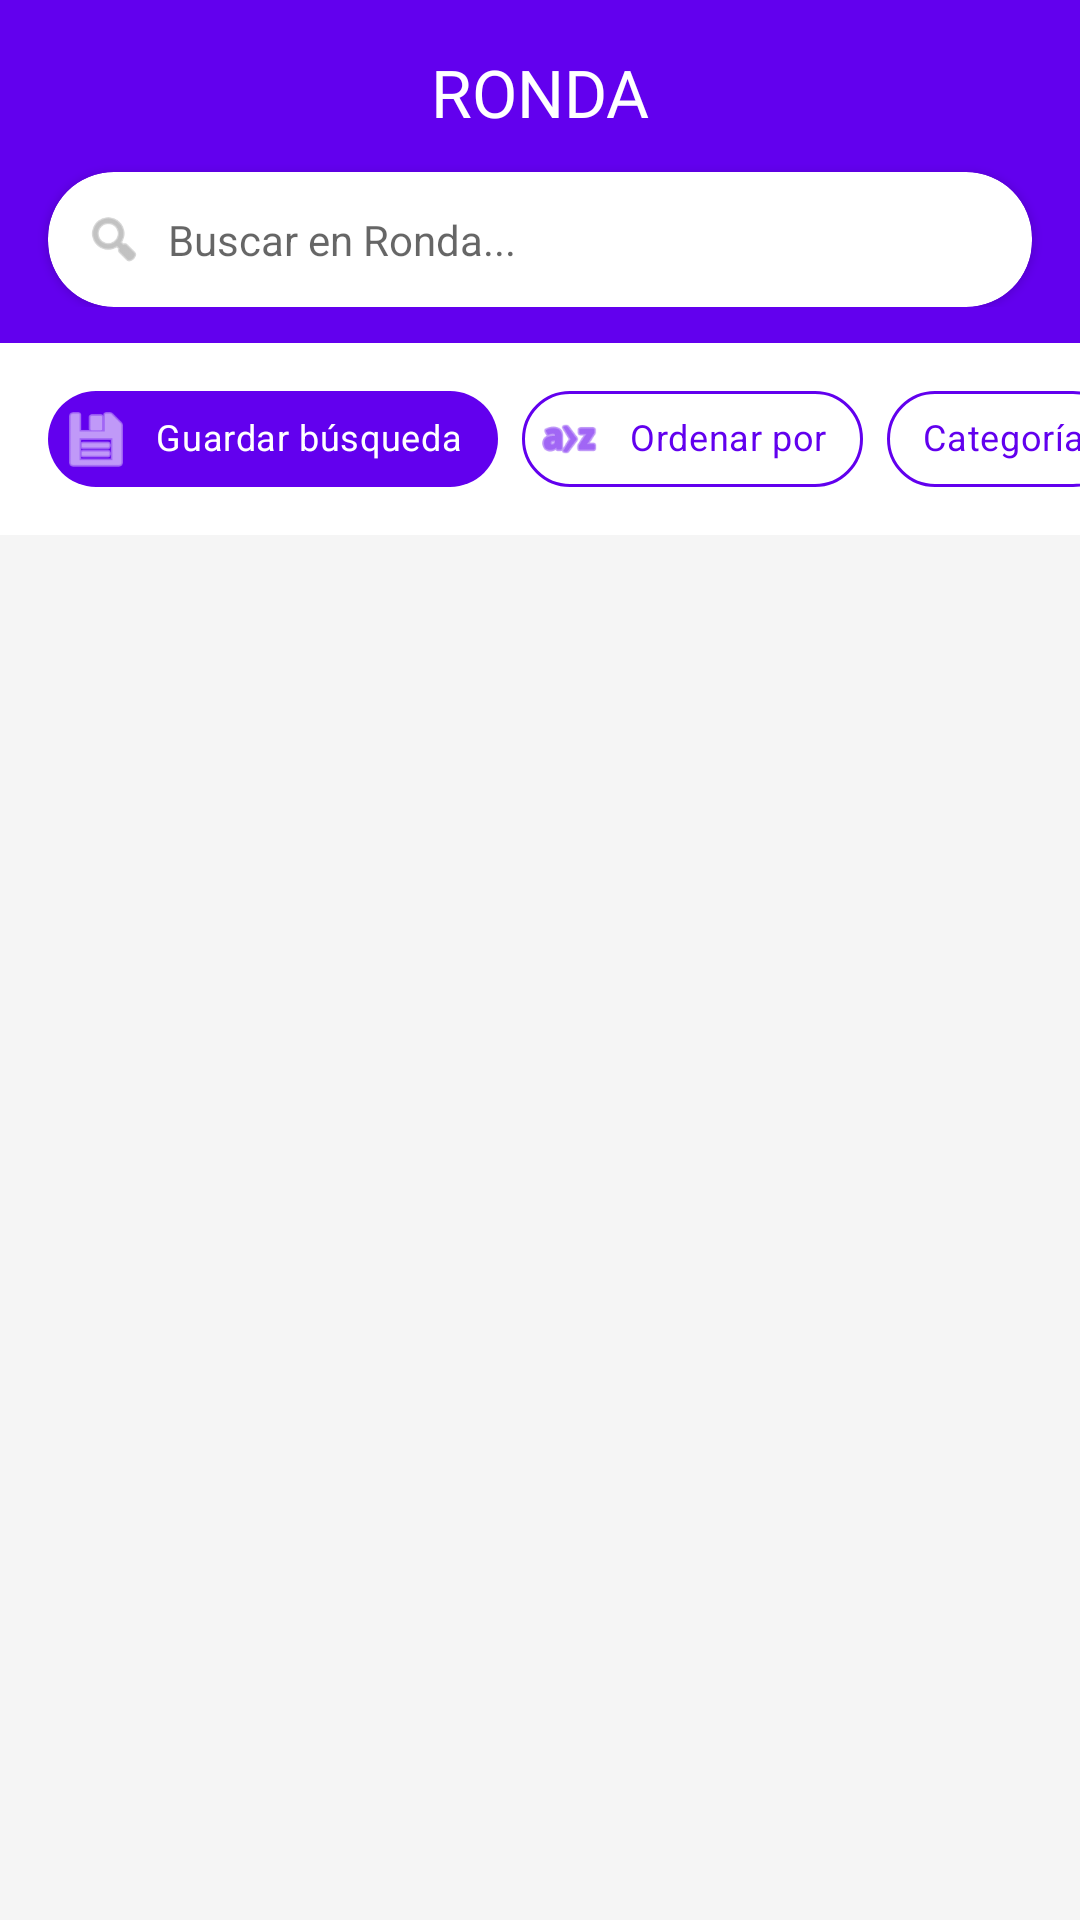

Screen size 1080x1920. Icon name, then its center in pixels as (x,y):
search: (114,239)
